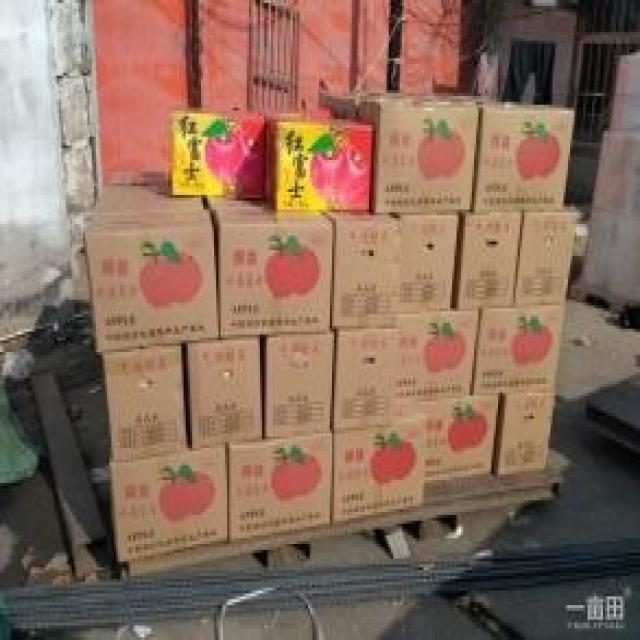box: (83, 207, 221, 352), (214, 207, 332, 340), (356, 96, 478, 212), (109, 445, 227, 561), (227, 431, 332, 544), (332, 407, 428, 529), (472, 102, 574, 212), (262, 116, 374, 209), (393, 393, 500, 486), (319, 209, 400, 326), (103, 343, 186, 457), (393, 308, 481, 407), (472, 305, 566, 396), (186, 337, 262, 448), (170, 113, 266, 198), (264, 332, 334, 439), (452, 209, 524, 311), (330, 326, 398, 433), (398, 212, 459, 314), (515, 209, 579, 305), (491, 393, 555, 477), (98, 183, 203, 212), (205, 198, 269, 212), (109, 169, 170, 183)
